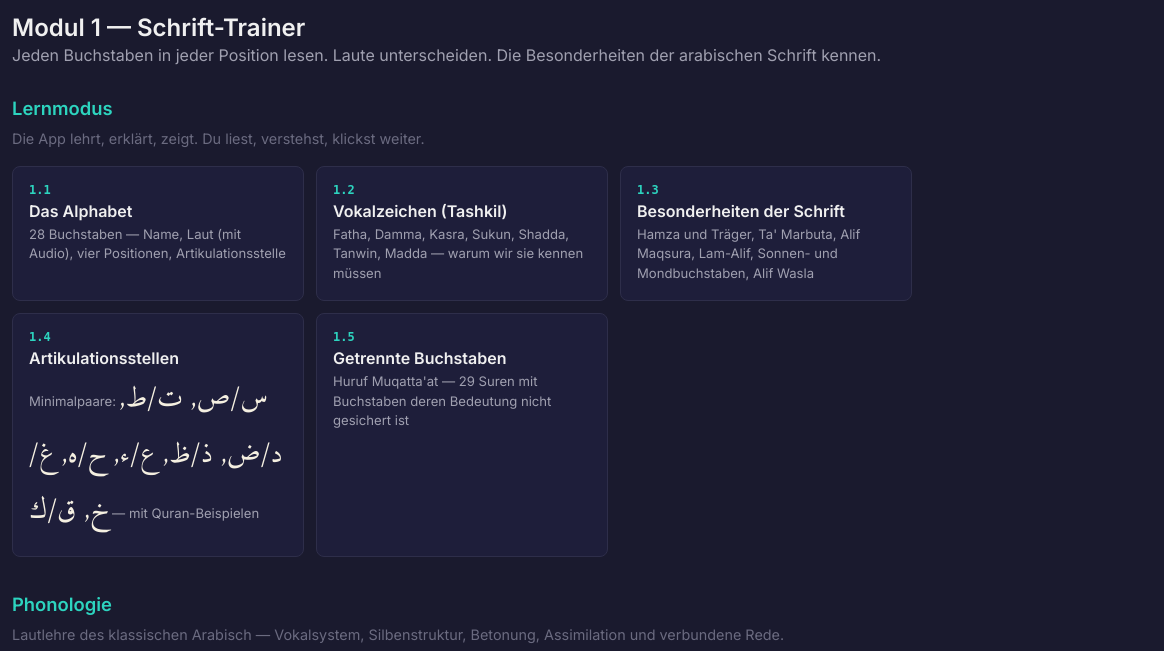
Test: Module1 Overview and Section Navigation › clicking lesson 1.3 card navigates to script features lesson
Click the text "Besonderheiten der Schrift" at point(741, 211), box left=637, top=201, right=845, bottom=221
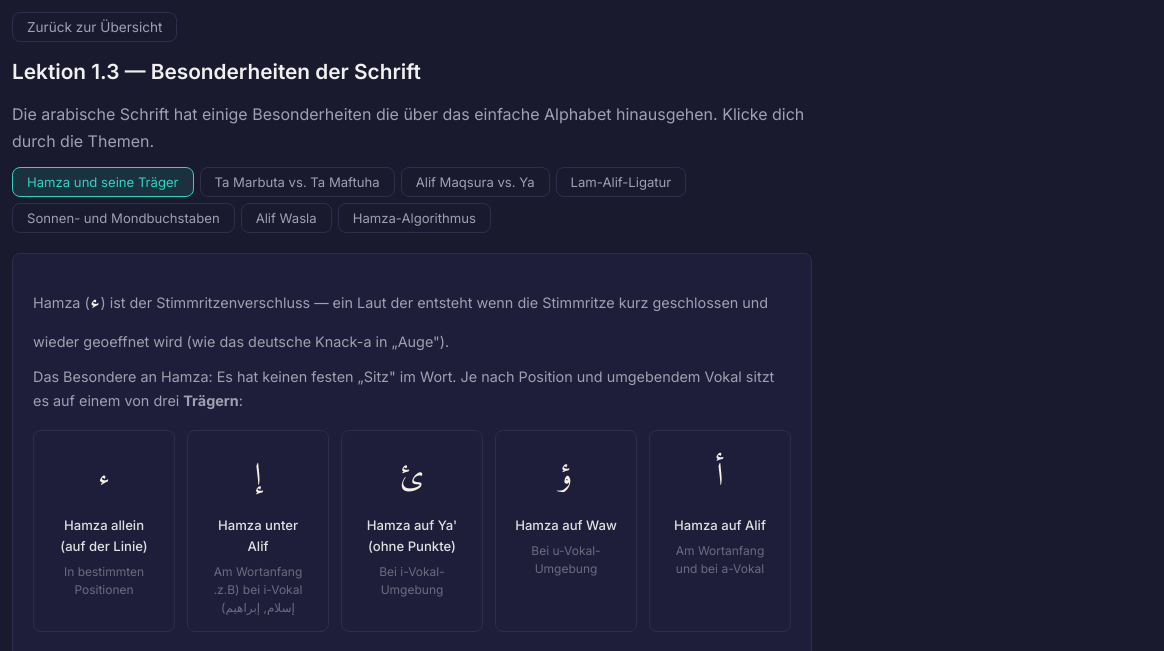
Now the heading "Lektion 1.3 — Besonderheiten der Schrift" is shown, box left=12, top=59, right=421, bottom=84
